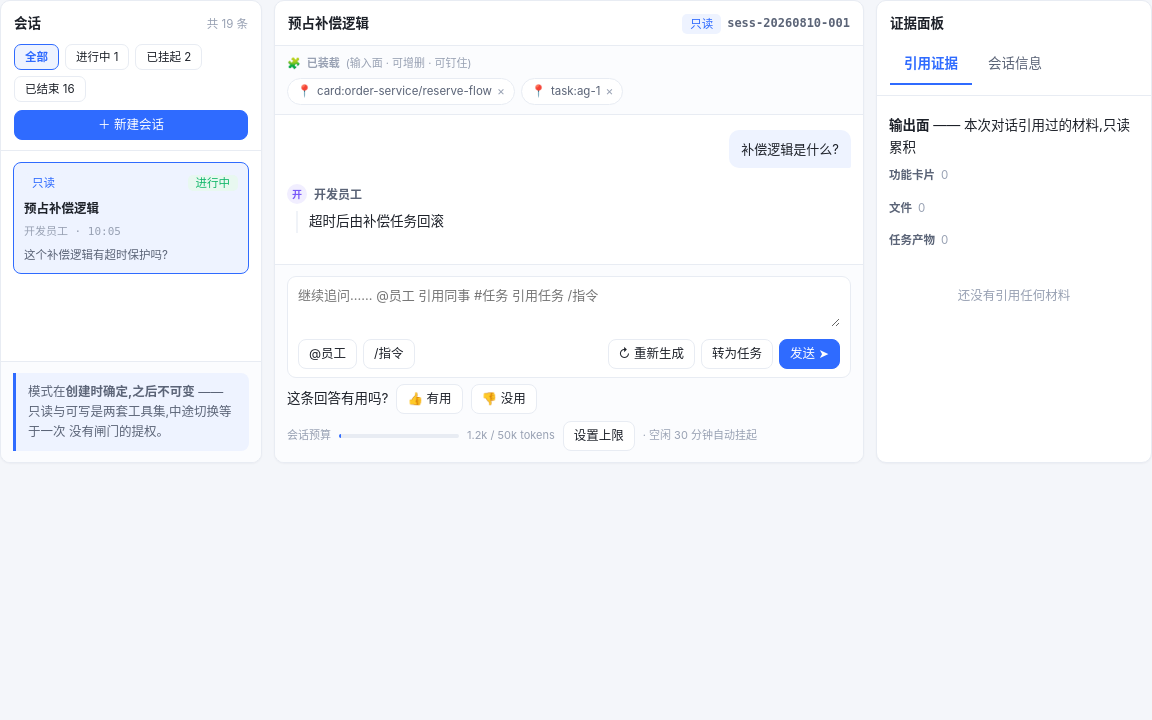
Scenario: 预算上限的配置面板 › refuses a non-integer instead of writing something the backend will reject
Click the button "设置上限". click: {"x": 599, "y": 436}
box: [563,421,635,451]
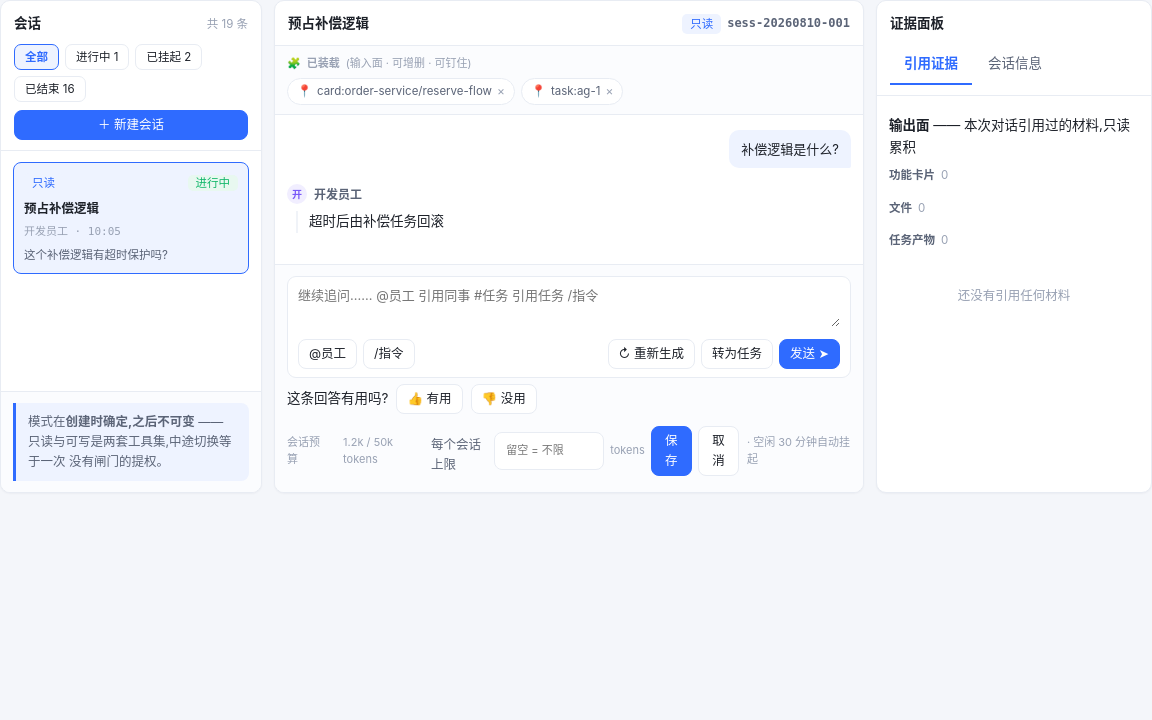
Type "很多" into the field labelled "每个会话上限". click: {"x": 549, "y": 451}
box: [494,432,604,470]
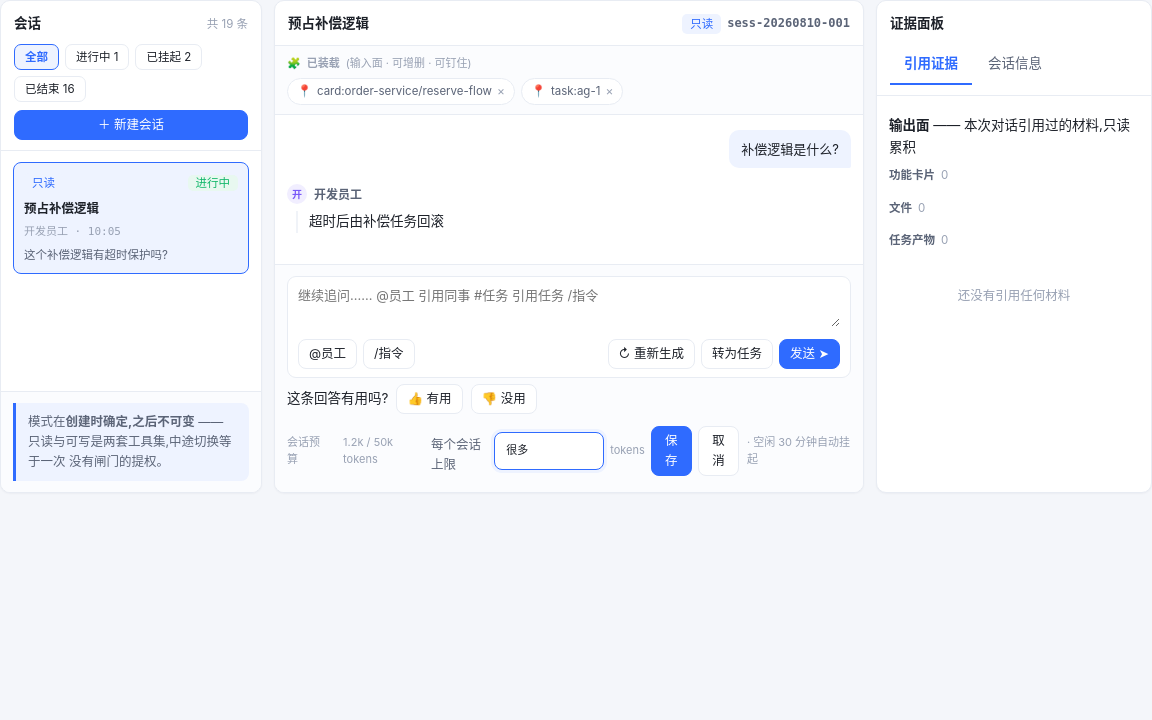
Click the button "保存". click: {"x": 671, "y": 451}
box: [651,426,692,476]
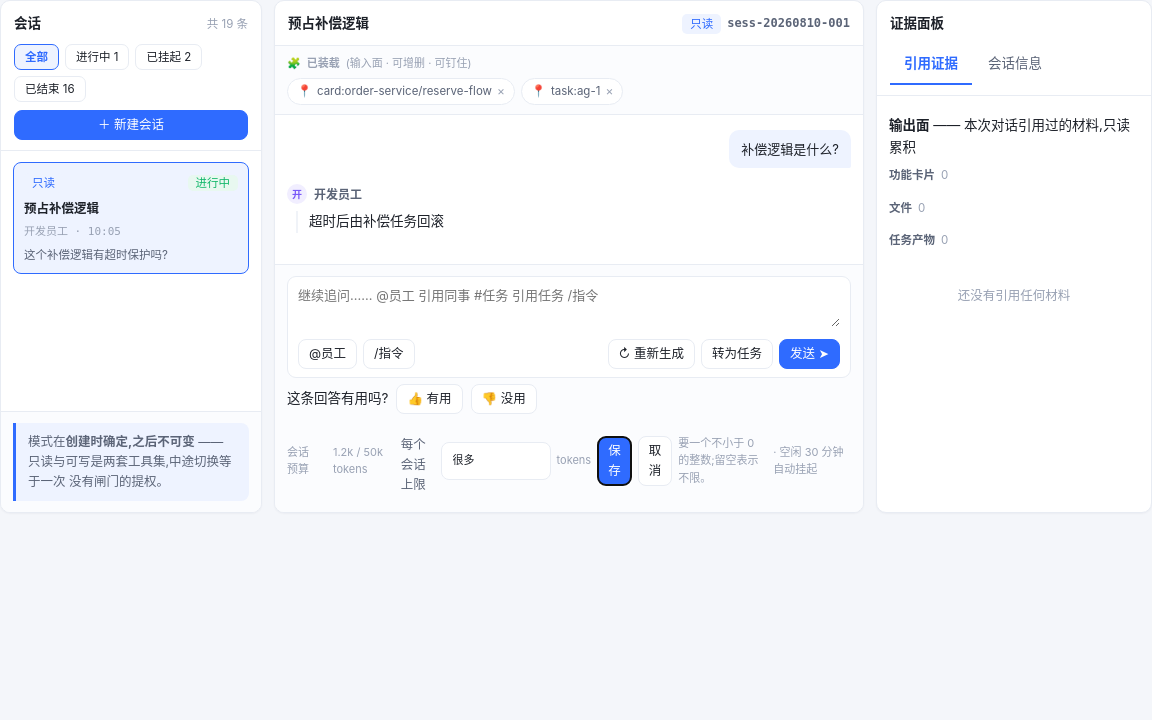
Result: the text "要一个不小于 0 的整数;留空表示不限。" is shown at [678,435,765,488]
